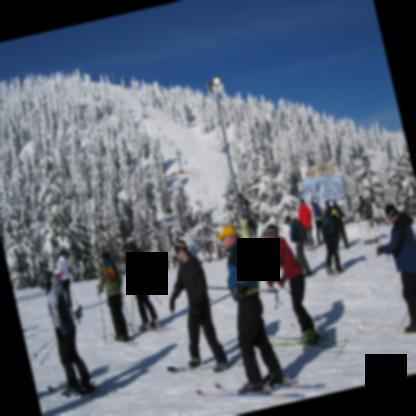backpack: (321, 213, 335, 241)
